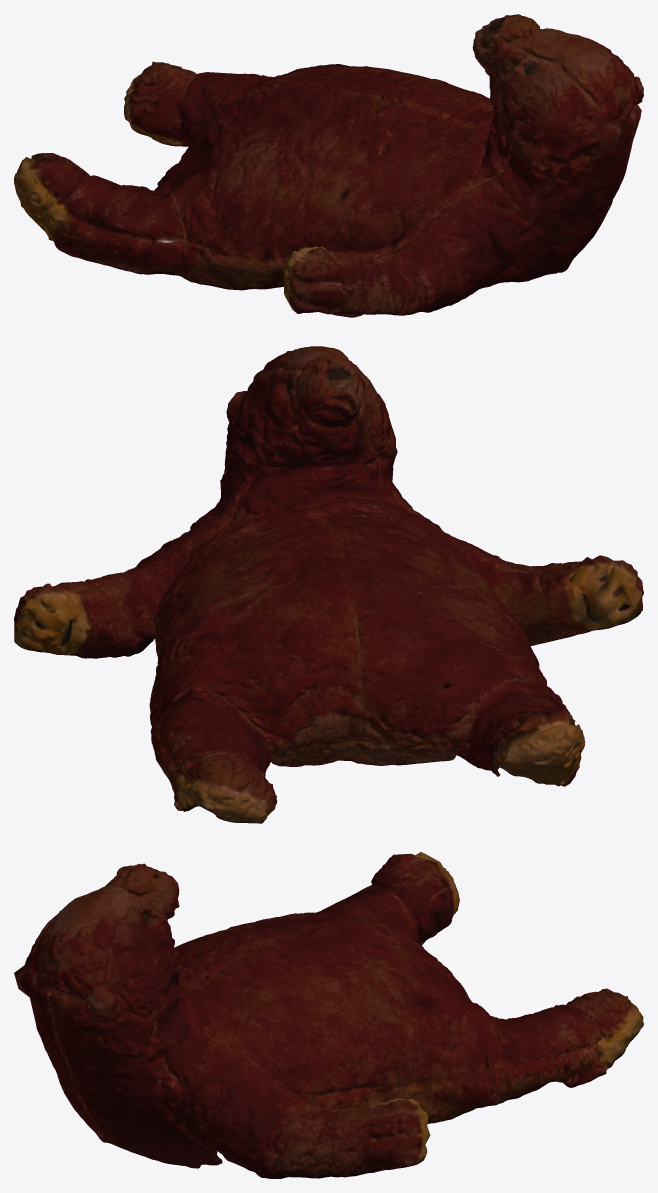
File: djungelskog.glb
3 renders of one model, top to bottom at view 1: azimuth 30°, elevation 25°; view 2: azimuth 150°, elevation 25°; view 3: azimuth 270°, elevation 25°, orthographic. The views are drawn at different scales.
Parts seen in each view (by area): view 1: Object_2; view 2: Object_2; view 3: Object_2.
Boxes of the visible parts, x1,y1,x2,y2 form: Object_2: [14, 14, 643, 317]; Object_2: [14, 346, 643, 823]; Object_2: [14, 852, 643, 1178].
Bounding box in the file's own units: 526 × 250 × 518.
Materials: 1 (1 with a texture image).
